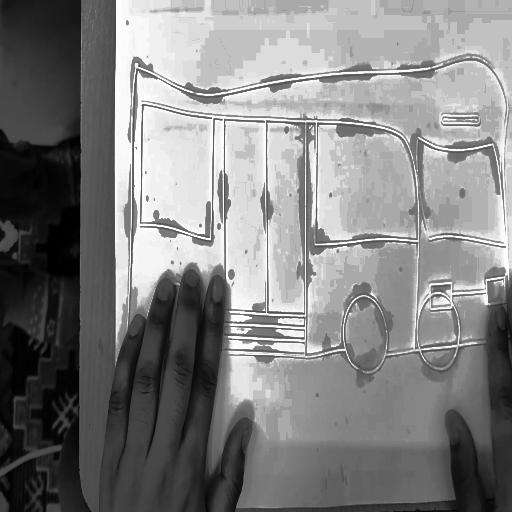bottom_left: (112, 493, 118, 504)
bus: (118, 52, 511, 385)
